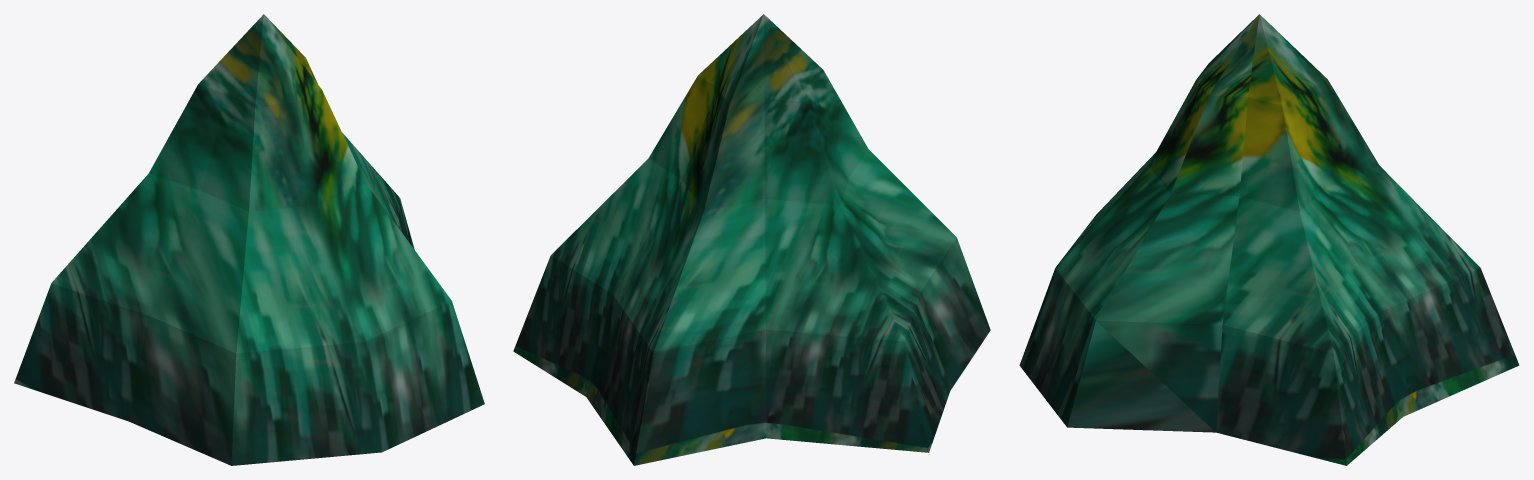
The model's file is Island_2_Mount_1.gltf.
3 renders of one model, left to right at view 1: azimuth 30°, elevation 25°; view 2: azimuth 150°, elevation 25°; view 3: azimuth 270°, elevation 25°, orthographic.
Parts seen in each view (by area): view 1: Island_2_Mount_1; view 2: Island_2_Mount_1; view 3: Island_2_Mount_1.
Part boxes in pixels (x1=…): Island_2_Mount_1: x1=14, y1=14, x2=484, y2=465; Island_2_Mount_1: x1=513, y1=14, x2=990, y2=465; Island_2_Mount_1: x1=1019, y1=14, x2=1519, y2=465.
Size of the model in its own units: 6.54 by 5.35 by 6.88.
1 material, 1 textured.
